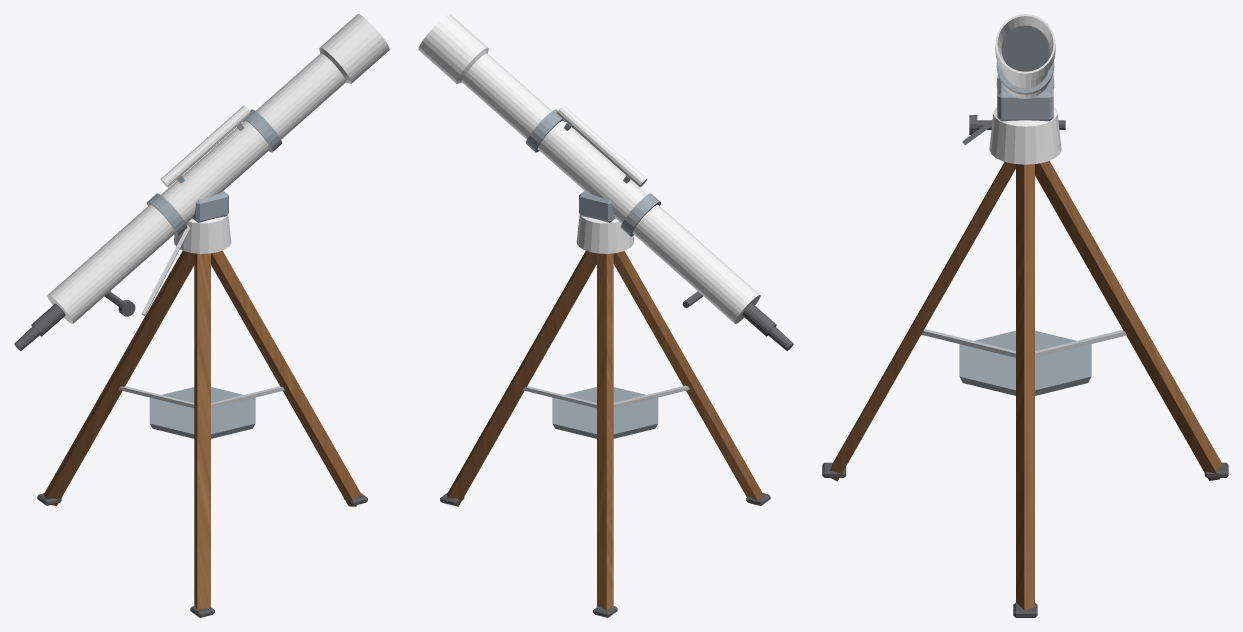
File: telescopio.glb
3 renders of one model, left to right at view 1: azimuth 30°, elevation 25°; view 2: azimuth 150°, elevation 25°; view 3: azimuth 270°, elevation 25°, orthographic. The views are drawn at different scales.
Parts seen in each view (by area): view 1: telescopio_branco_tel, telescopio_madeira, telescopio_aco_pintado, telescopio_aco, telescopio_esmalte_escuro; view 2: telescopio_branco_tel, telescopio_madeira, telescopio_aco_pintado, telescopio_esmalte_escuro, telescopio_aco, telescopio_borracha; view 3: telescopio_madeira, telescopio_aco_pintado, telescopio_branco_tel, telescopio_vidro_escuro, telescopio_aco, telescopio_borracha.
Boxes of the visible parts, <box> form: telescopio_branco_tel: <box>47,14,389,323</box>; telescopio_madeira: <box>43,250,361,609</box>; telescopio_aco_pintado: <box>147,109,282,438</box>; telescopio_aco: <box>118,225,284,408</box>; telescopio_esmalte_escuro: <box>14,291,135,350</box>; telescopio_branco_tel: <box>418,14,760,323</box>; telescopio_madeira: <box>447,251,764,610</box>; telescopio_aco_pintado: <box>525,109,660,438</box>; telescopio_esmalte_escuro: <box>682,291,793,350</box>; telescopio_aco: <box>523,385,689,408</box>; telescopio_borracha: <box>440,492,770,617</box>; telescopio_madeira: <box>830,160,1222,609</box>; telescopio_aco_pintado: <box>959,61,1091,395</box>; telescopio_branco_tel: <box>989,14,1061,164</box>; telescopio_vidro_escuro: <box>1001,25,1049,71</box>; telescopio_aco: <box>921,119,1126,357</box>; telescopio_borracha: <box>822,462,1228,617</box>.
Bounding box in the file's own units: 1.33 × 1.67 × 1.01.
Materials: 7 (1 with a texture image).
